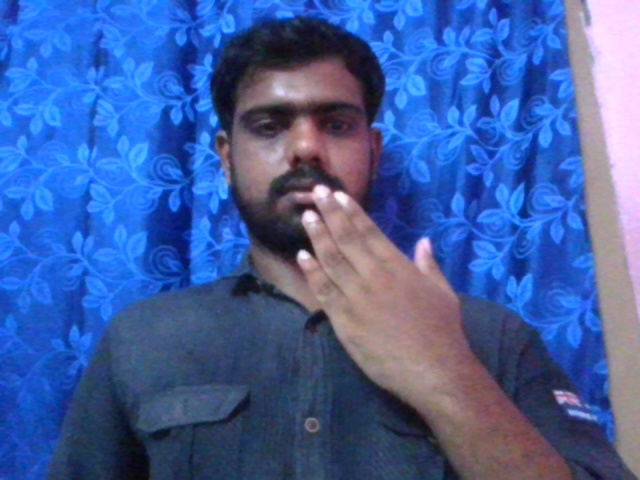Thanks: (295, 171, 458, 372)
